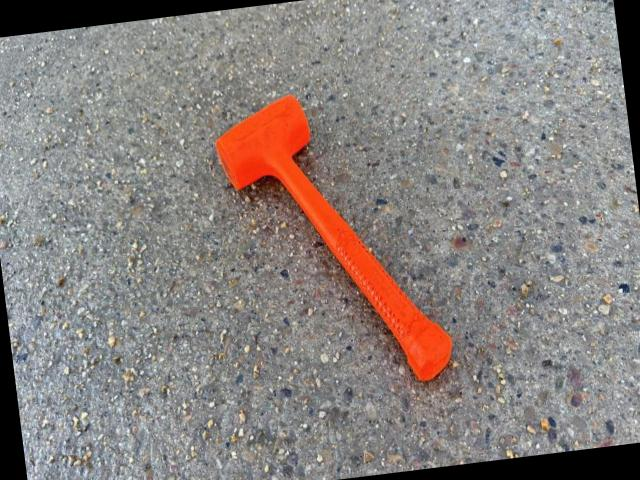hammer: (208, 79, 458, 403)
